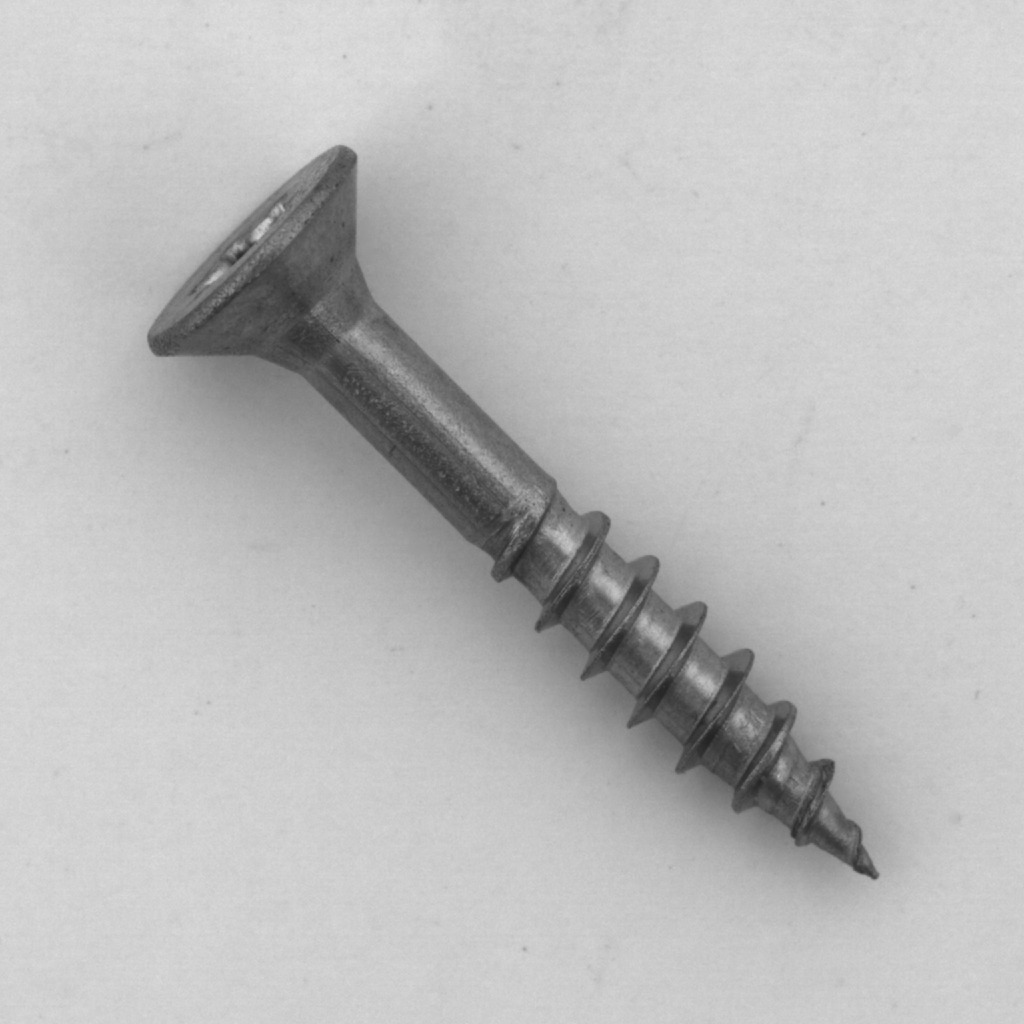good: (134, 128, 903, 903)
